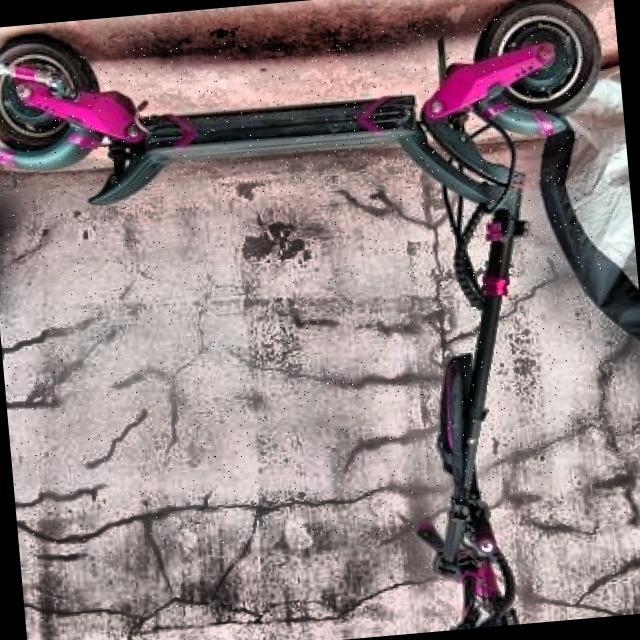bike: (0, 0, 636, 630)
car: (1, 0, 618, 120)
